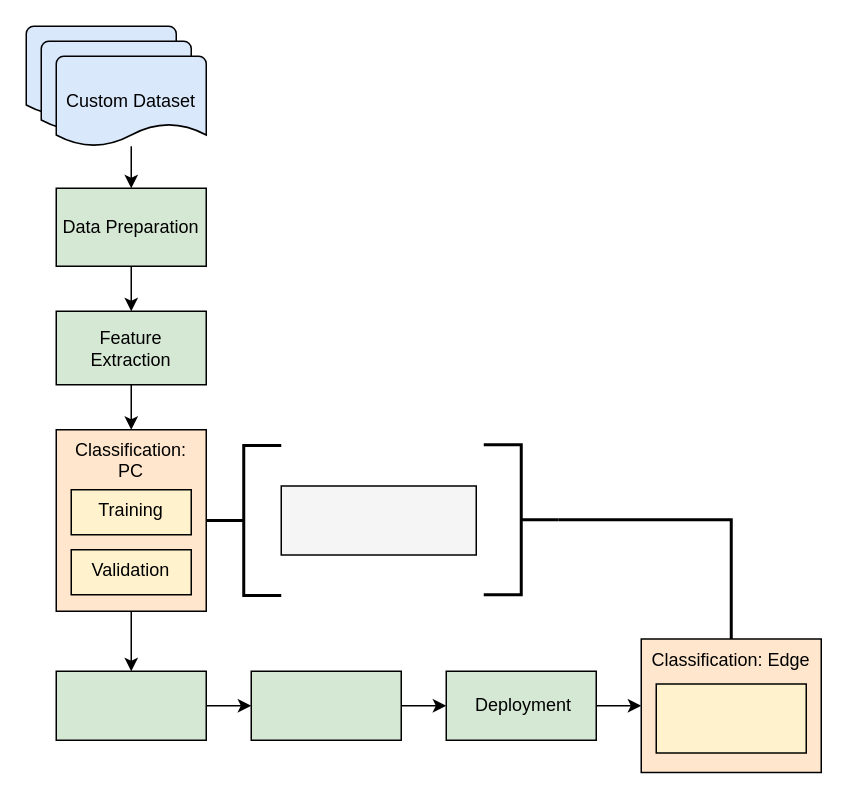
The diagram is 848 pixels wide and 800 high, and some of its shapes have lost their labels. The shapes that lost their labels are listed below. From the top down, each one's centre as x and y in pixels, then its label:
At point (378, 519): "Using SSD-MobileNet".
At point (130, 705): "Optimized ODC".
At point (325, 705): "Conversion".
At point (730, 717): "Testing".
